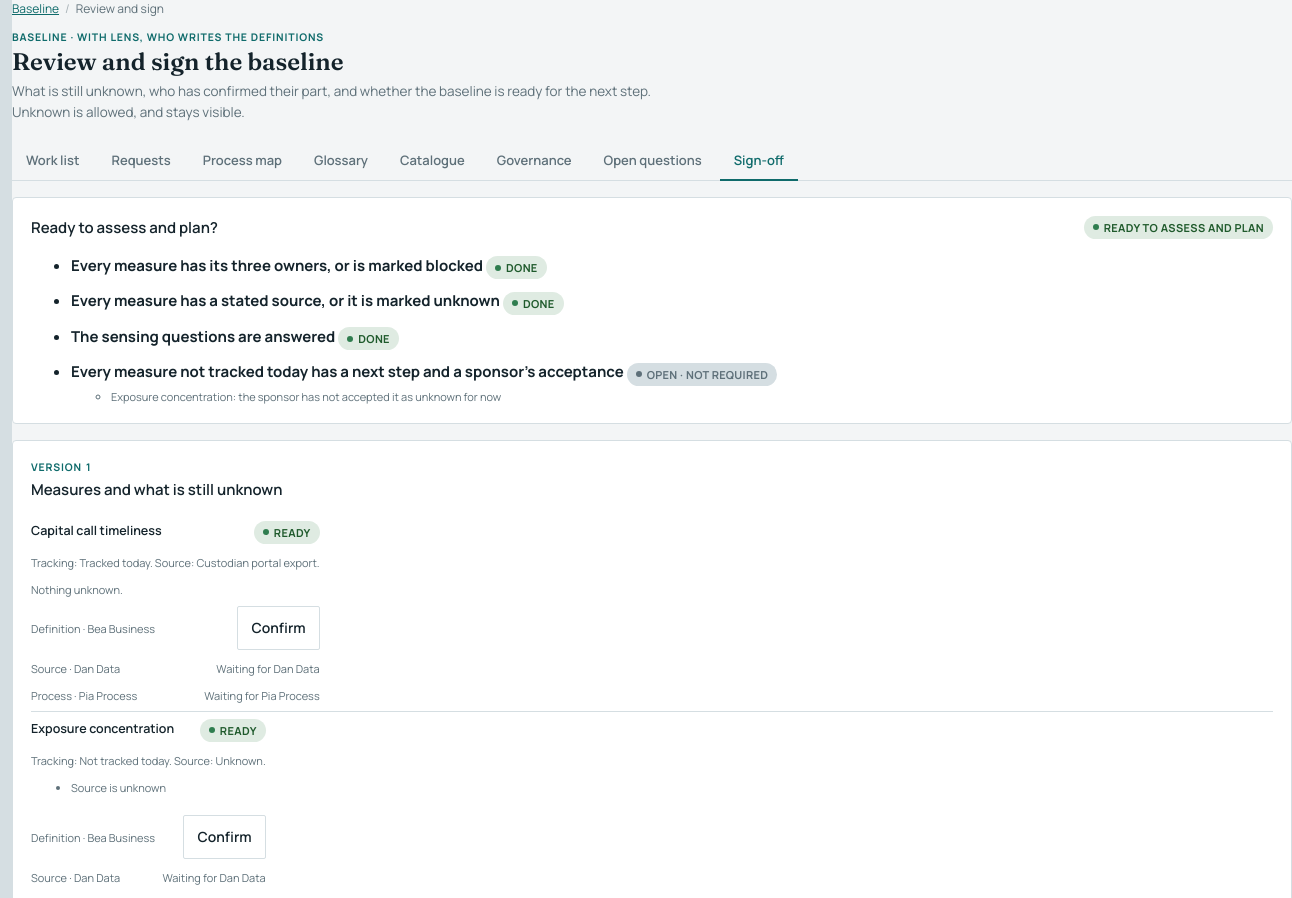
Test: owners confirm, the sponsor accepts and names, the sponsor and head of data sign › a refused change shows the server's plain sentence
Step 1. Click the button with aria-label "Confirm:" → click(278, 628), box x1=237 y1=606 x2=320 y2=650
(page scrolled)
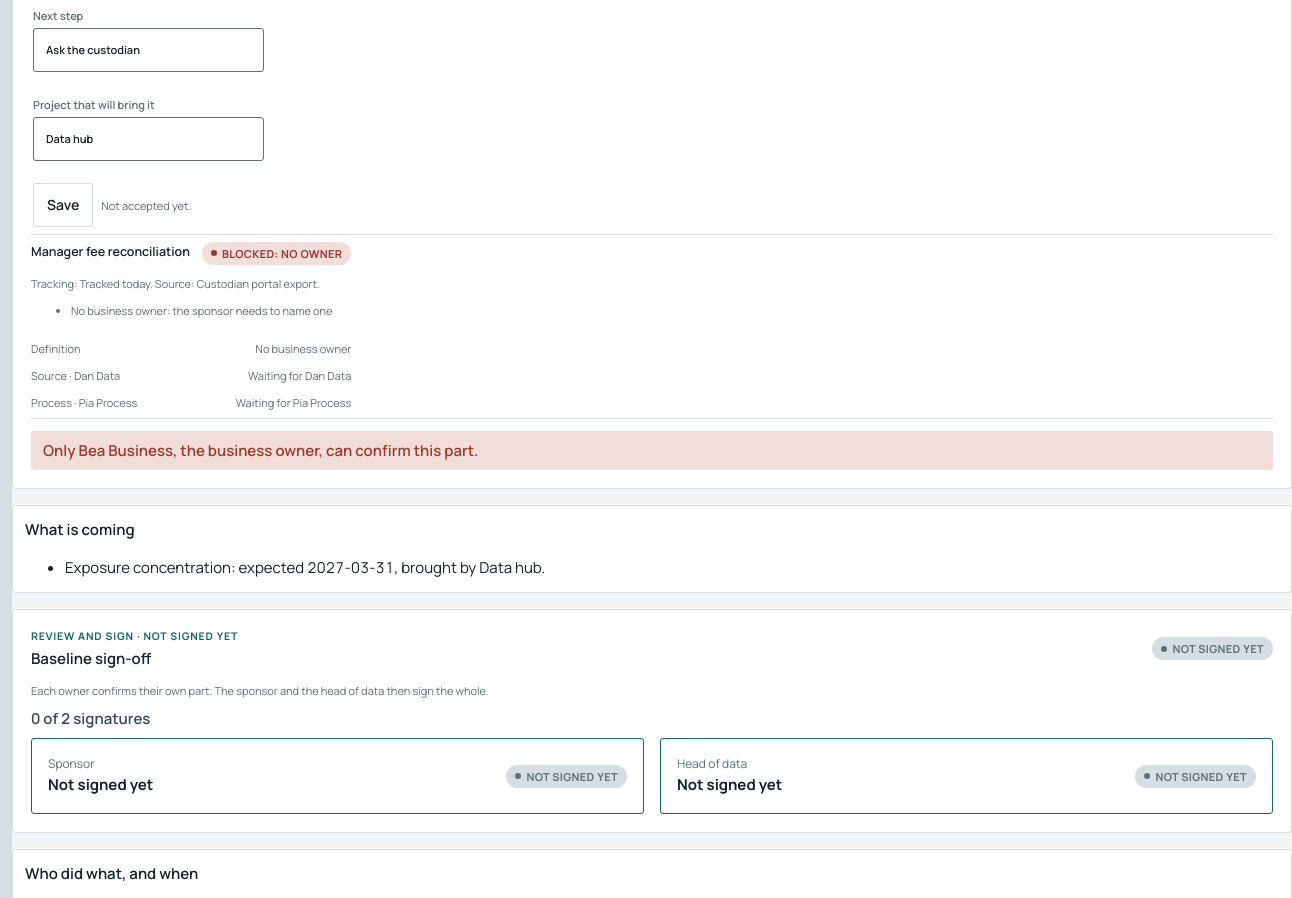
Now the message reads "Only Bea Business, the business owner, can confirm this part.", box x1=43 y1=440 x2=478 y2=461
